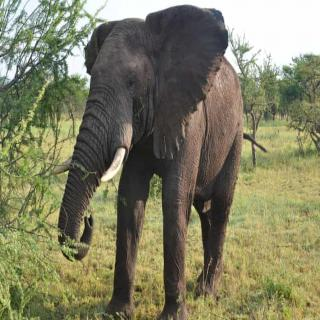Elephant: (49, 4, 267, 320)
